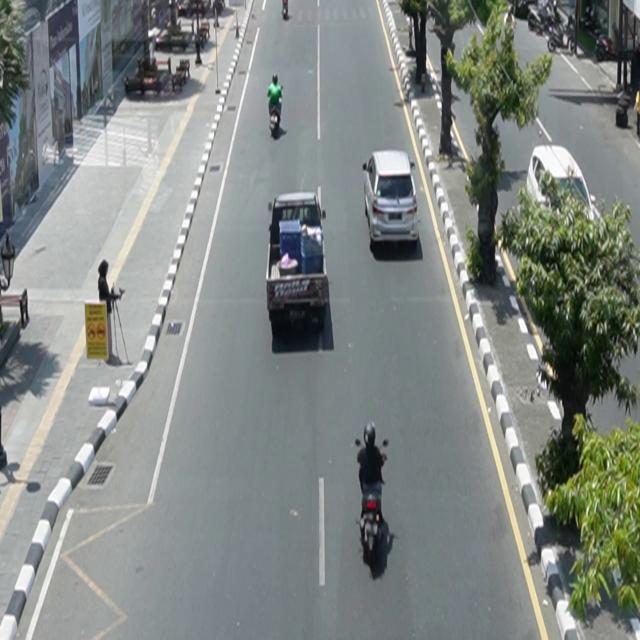car: (363, 150, 420, 248)
